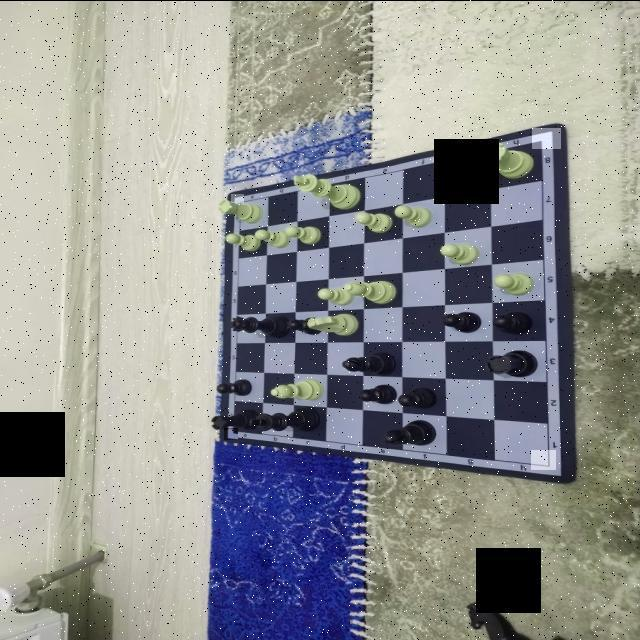chess-table-corners: (532, 127, 561, 148), (531, 449, 556, 469), (224, 426, 238, 438), (231, 193, 244, 202)
